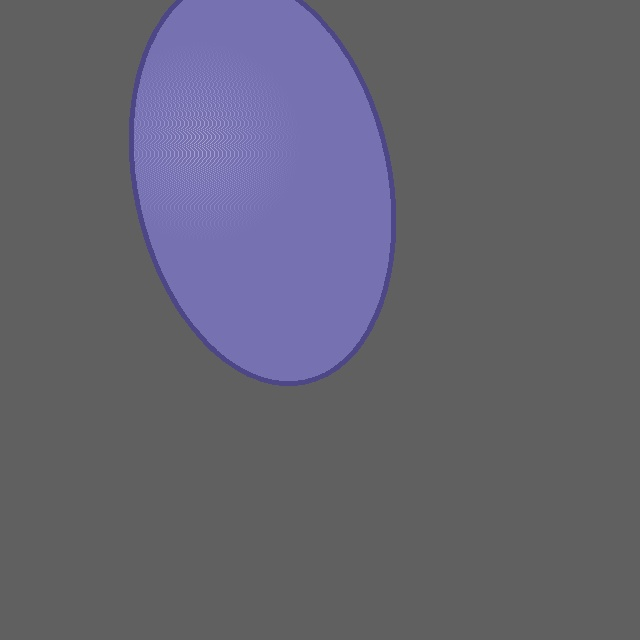lens: (131, 0, 393, 381)
